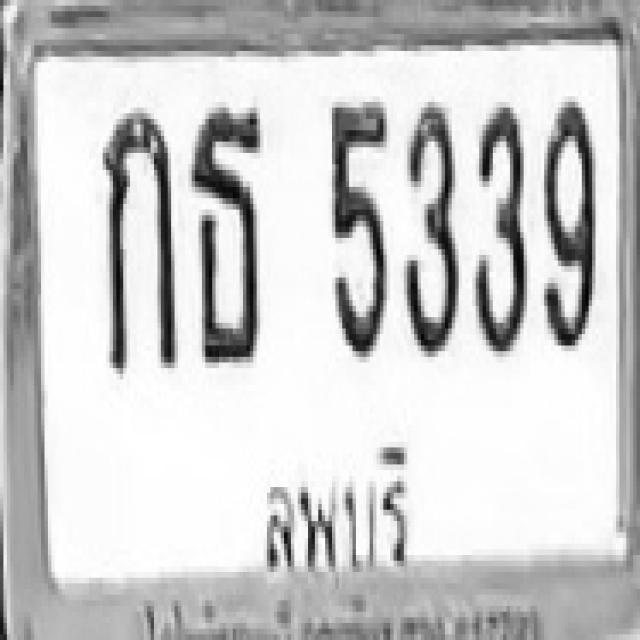10GorGai: (99, 108, 175, 368)
3: (401, 99, 458, 354), (472, 102, 527, 351)
33ThorThong: (188, 99, 264, 360)
5: (328, 96, 386, 357)
9: (540, 97, 596, 346)
LopBuri: (247, 430, 423, 589)
